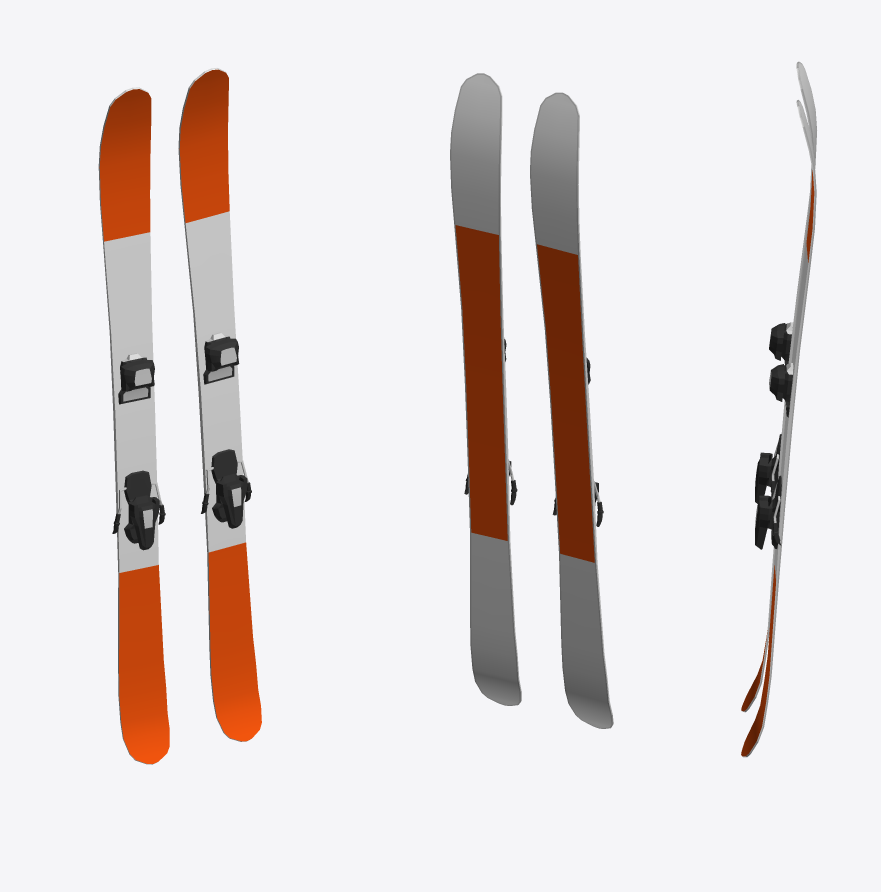
Rendered from ski.glb.
3 views of the same model, side by side, from view 1: azimuth 30°, elevation 25°; view 2: azimuth 150°, elevation 25°; view 3: azimuth 270°, elevation 25° (orthographic).
Visible parts, largest first — view 1: Cube; view 2: Cube; view 3: Cube.
Part boxes in pixels (bbox=[...]): Cube: bbox=[98, 68, 261, 764]; Cube: bbox=[450, 73, 613, 728]; Cube: bbox=[741, 61, 816, 757].
Bounding box in the file's own units: 3.76 × 10.89 × 2.
